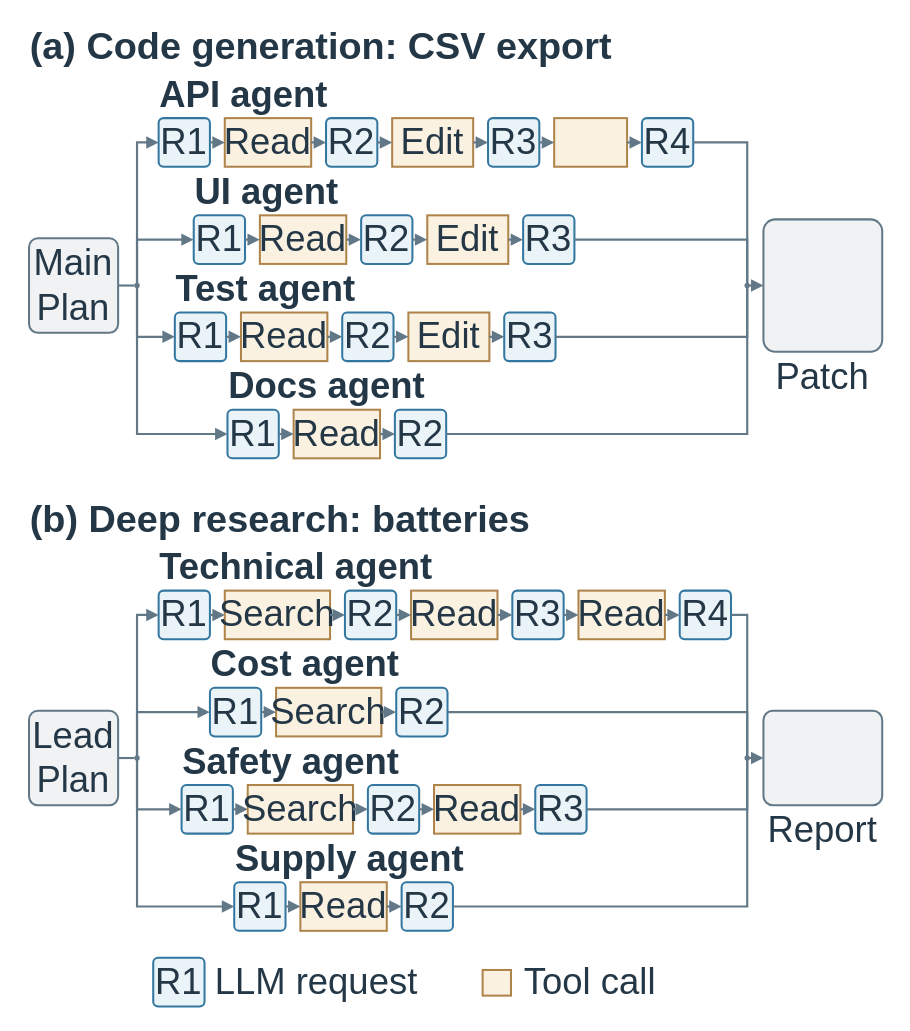
Image size: 910x1031. Some labels were removed from this diagram. Each missing label, with the centre of its shape:
Lead Write: point 822,757
Lint: point 590,142
Main Merge & test: point 822,285
